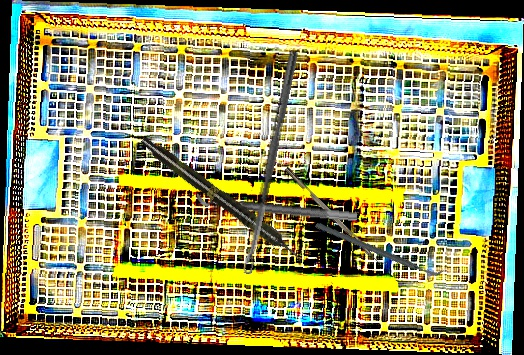Chopper: (314, 182, 446, 316), (284, 162, 389, 270)
Fixation Ring: (196, 181, 359, 223)
Handpiece: (137, 133, 308, 267)
Surgical Spoon: (241, 49, 299, 275)
